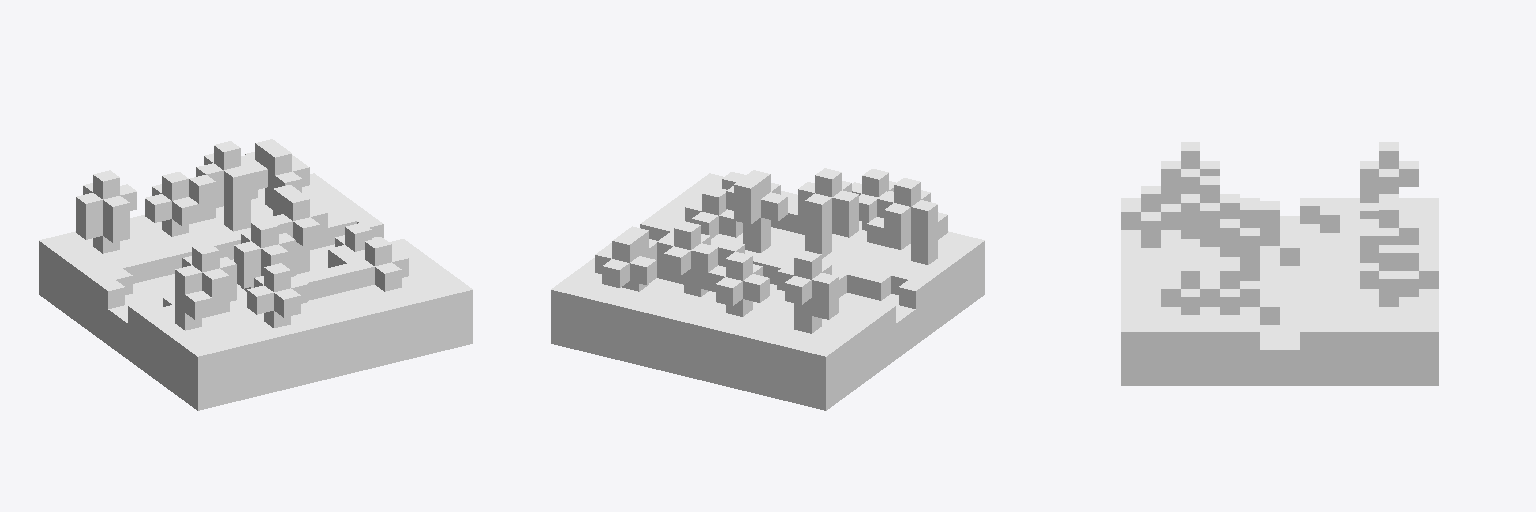
The model's file is river2.obj.
The picture shows the model from 3 angles: view 1: azimuth 30°, elevation 25°; view 2: azimuth 150°, elevation 25°; view 3: azimuth 270°, elevation 25°; orthographic projection.
Visible parts, largest first — view 1: RiverStraight2; view 2: RiverStraight2; view 3: RiverStraight2.
Boxes of the visible parts, x1=… form: RiverStraight2: x1=39, y1=139, x2=472, y2=410; RiverStraight2: x1=551, y1=168, x2=984, y2=410; RiverStraight2: x1=1121, y1=142, x2=1438, y2=385.
Bounding box in the file's own units: 16 × 7 × 16.